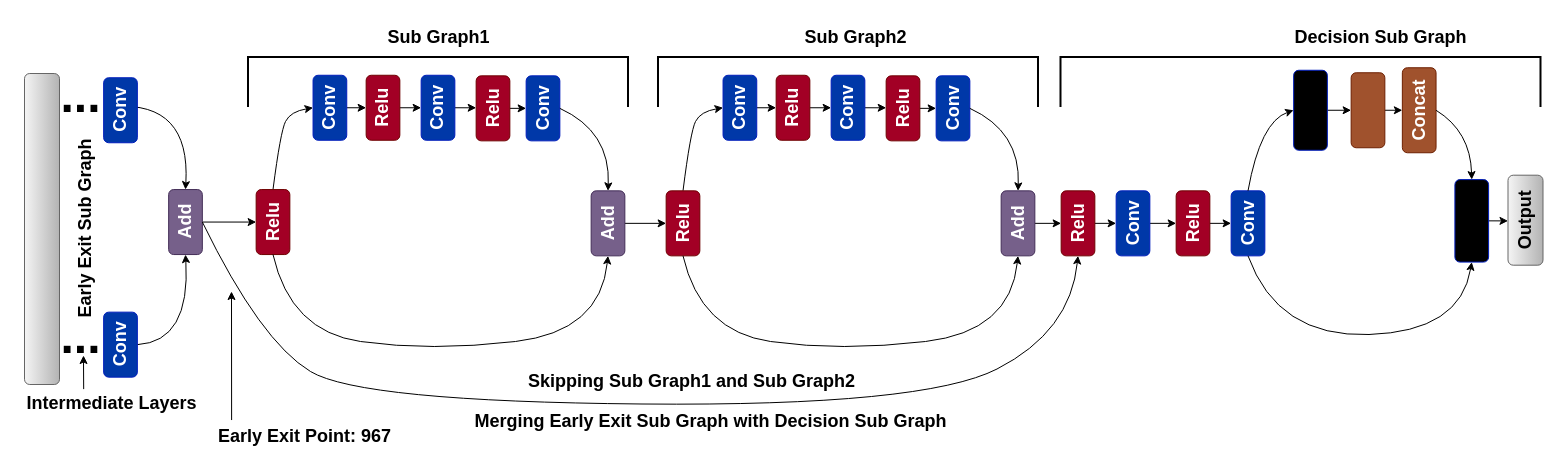
The diagram is 1560 pixels wide and 471 high, and some of its shapes have lost their labels. Each missing label, with the box of its shape:
Input: (24, 72, 60, 384)
Resize: (1454, 179, 1489, 262)
Shape: (1293, 69, 1327, 150)
Slice: (1350, 72, 1385, 148)
